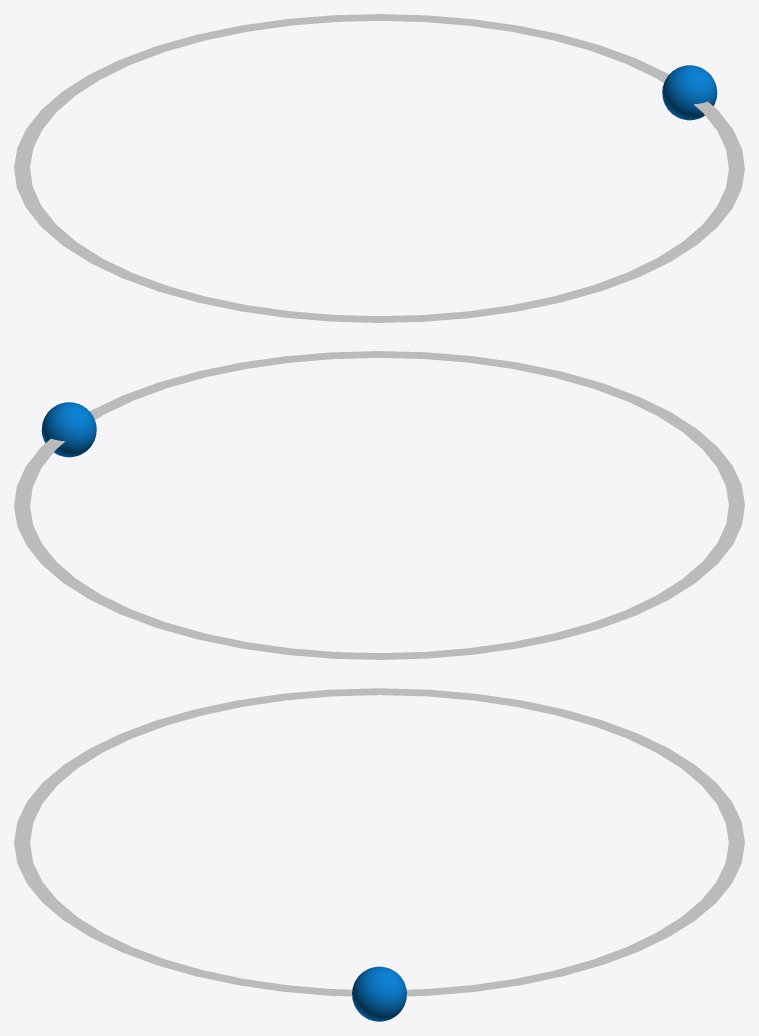
Rendered from atom-2.glb.
The picture shows the model from 3 angles, top to bottom: view 1: azimuth 30°, elevation 25°; view 2: azimuth 150°, elevation 25°; view 3: azimuth 270°, elevation 25°; orthographic projection.
Visible parts, largest first — view 1: BezierCircle.003_BezierCircle, Sphere.002; view 2: BezierCircle.003_BezierCircle, Sphere.002; view 3: BezierCircle.003_BezierCircle, Sphere.002.
Boxes of the visible parts, box(x1,y1,x2,y2) form: BezierCircle.003_BezierCircle: box(14, 14, 744, 322); Sphere.002: box(662, 65, 717, 120); BezierCircle.003_BezierCircle: box(14, 351, 744, 659); Sphere.002: box(41, 402, 96, 457); BezierCircle.003_BezierCircle: box(14, 688, 744, 996); Sphere.002: box(352, 966, 406, 1021).
Bounding box in the file's own units: 8.18 × 0.6 × 7.96.
